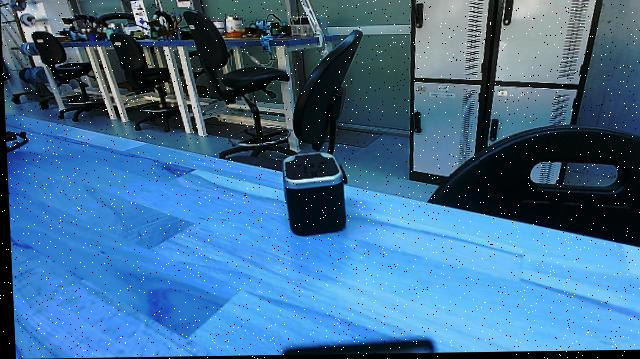adapter: (275, 150, 351, 241)
